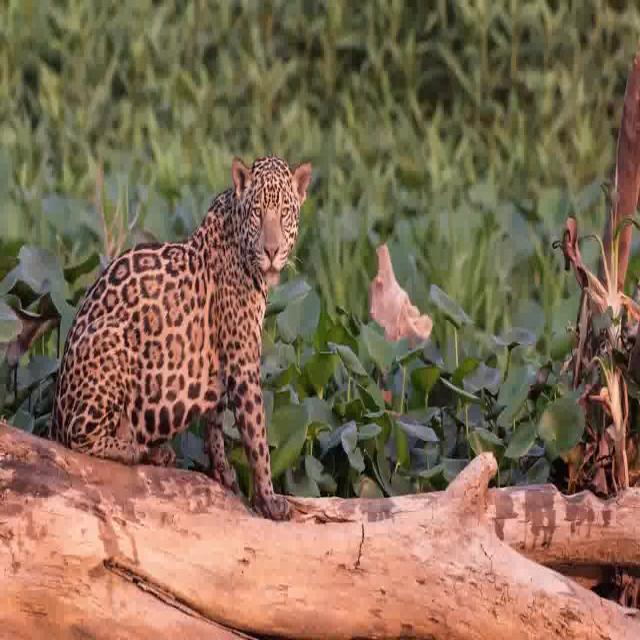Jaguar: (40, 140, 320, 546)
